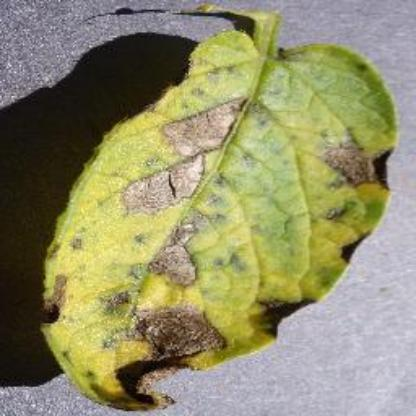Early-Blight: (37, 8, 415, 412)
